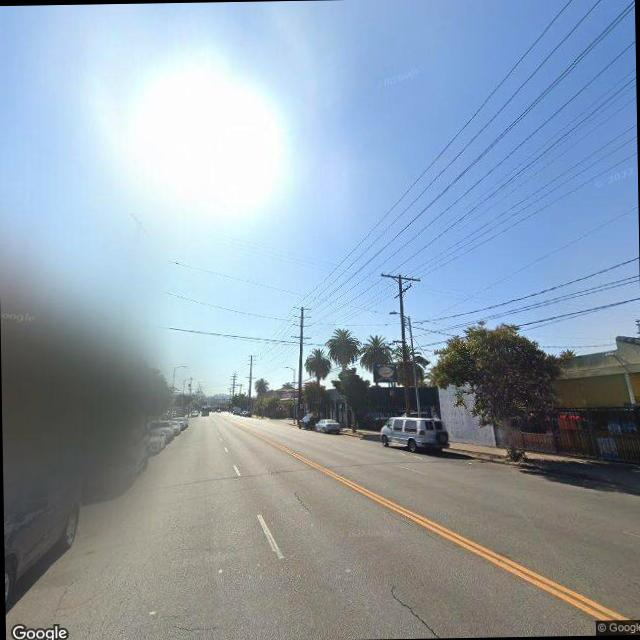crack: (384, 576, 481, 638), (168, 618, 220, 632), (290, 486, 310, 512)
